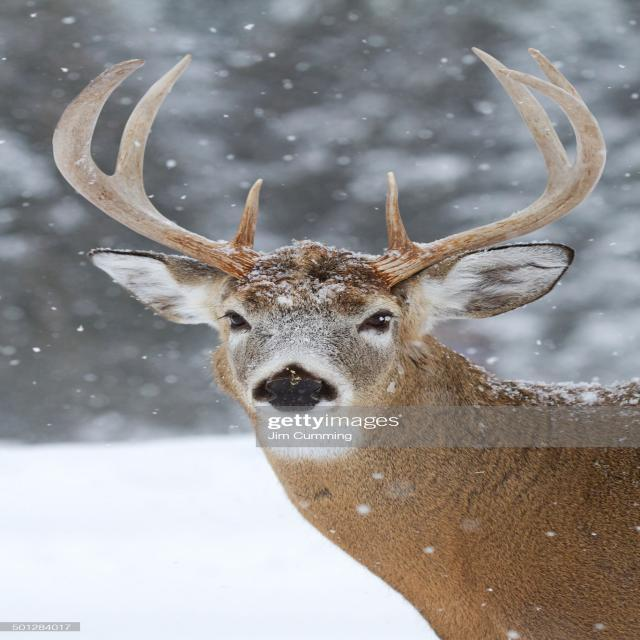L-F: (362, 69, 607, 289)
L-G1: (385, 171, 414, 250)
R-F: (53, 58, 261, 281)
R-G1: (228, 178, 264, 249)
R-G2: (113, 54, 193, 186)
